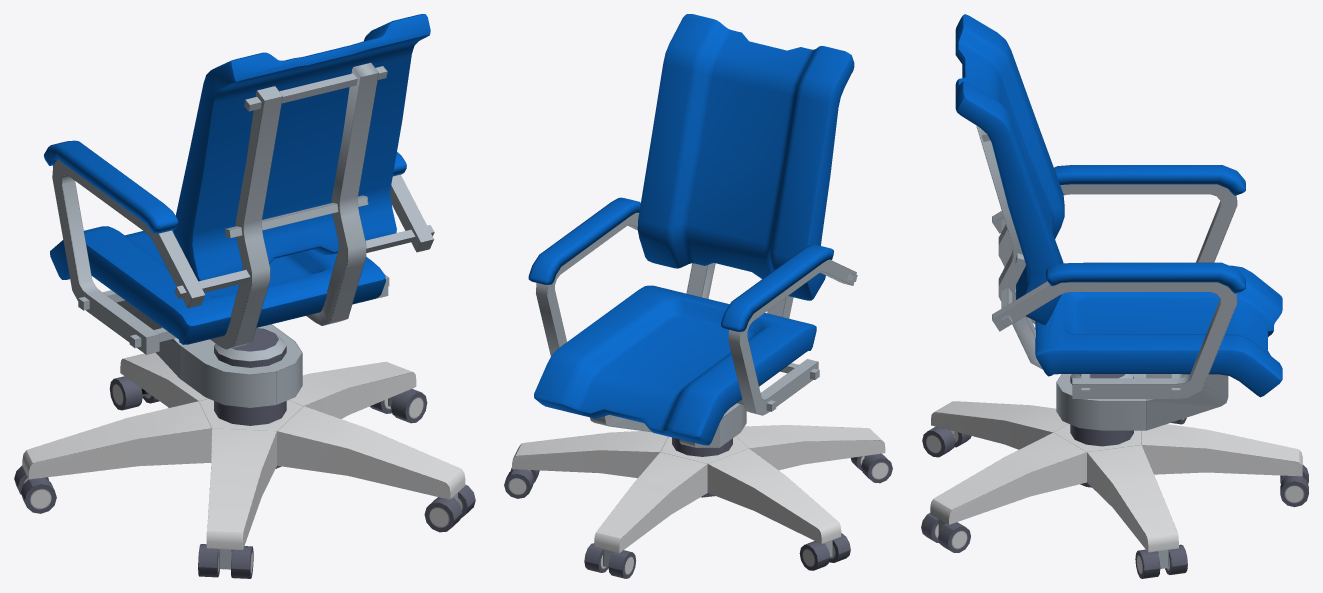
File: Chair_02.FBX
The picture shows the model from 3 angles, left to right: view 1: azimuth 30°, elevation 25°; view 2: azimuth 150°, elevation 25°; view 3: azimuth 270°, elevation 25°; orthographic projection. The views are drawn at different scales.
Parts seen in each view (by area): view 1: Chair_02, Sit; view 2: Sit, Chair_02; view 3: Chair_02, Sit.
Part boxes in pixels (x1=…): Chair_02: x1=14, y1=62, x2=475, y2=578; Sit: x1=44, y1=14, x2=430, y2=344; Sit: x1=528, y1=14, x2=854, y2=445; Chair_02: x1=504, y1=212, x2=892, y2=578; Chair_02: x1=921, y1=126, x2=1308, y2=578; Sit: x1=955, y1=14, x2=1282, y2=397.
Size of the model in its own units: 1.25 by 1.5 by 1.19.
